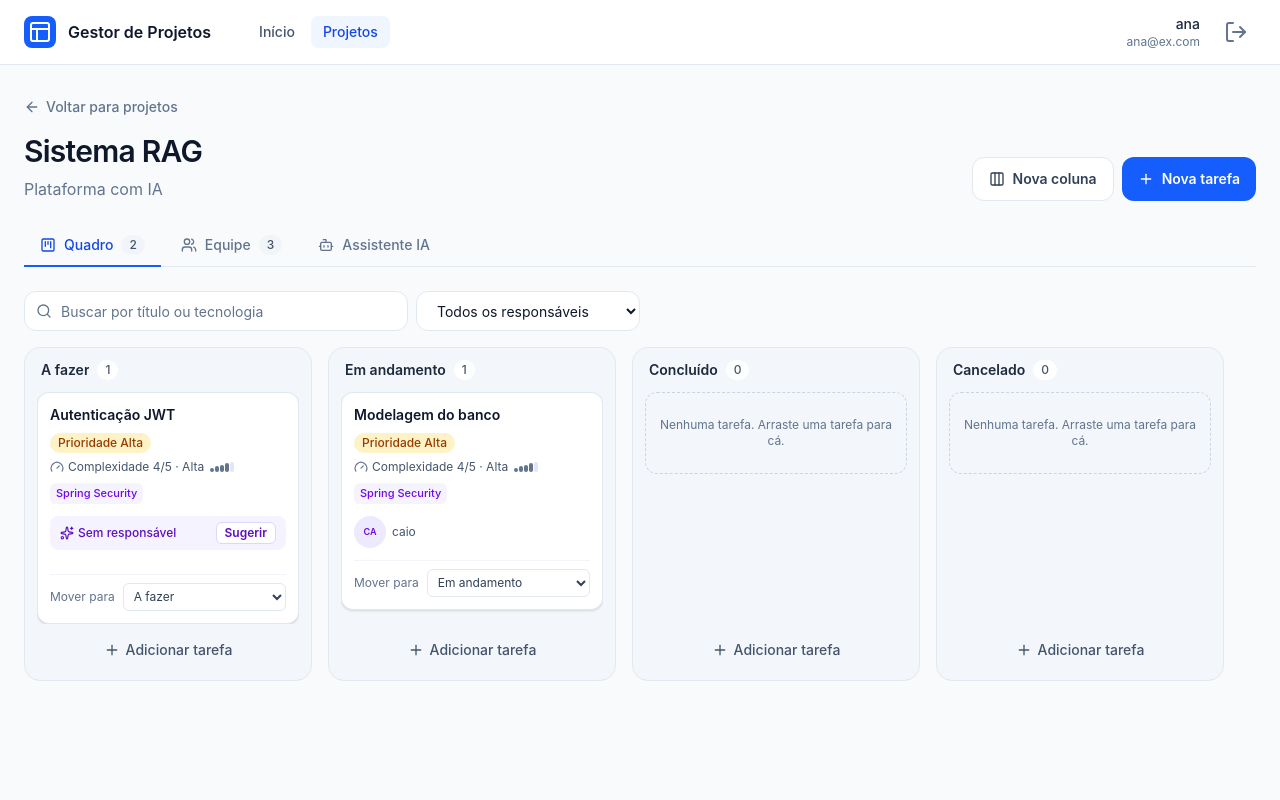
Test: Recomendação de responsáveis › exibe ranking com percentual, nome da equipe e justificativa; aceitar registra ACEITA e o servidor atribui
This screenshot has width=1280, height=800.
Click the button named "Sugerir responsável para \"Autenticação JWT\"". click: (246, 532)
box: [216,522,276,544]
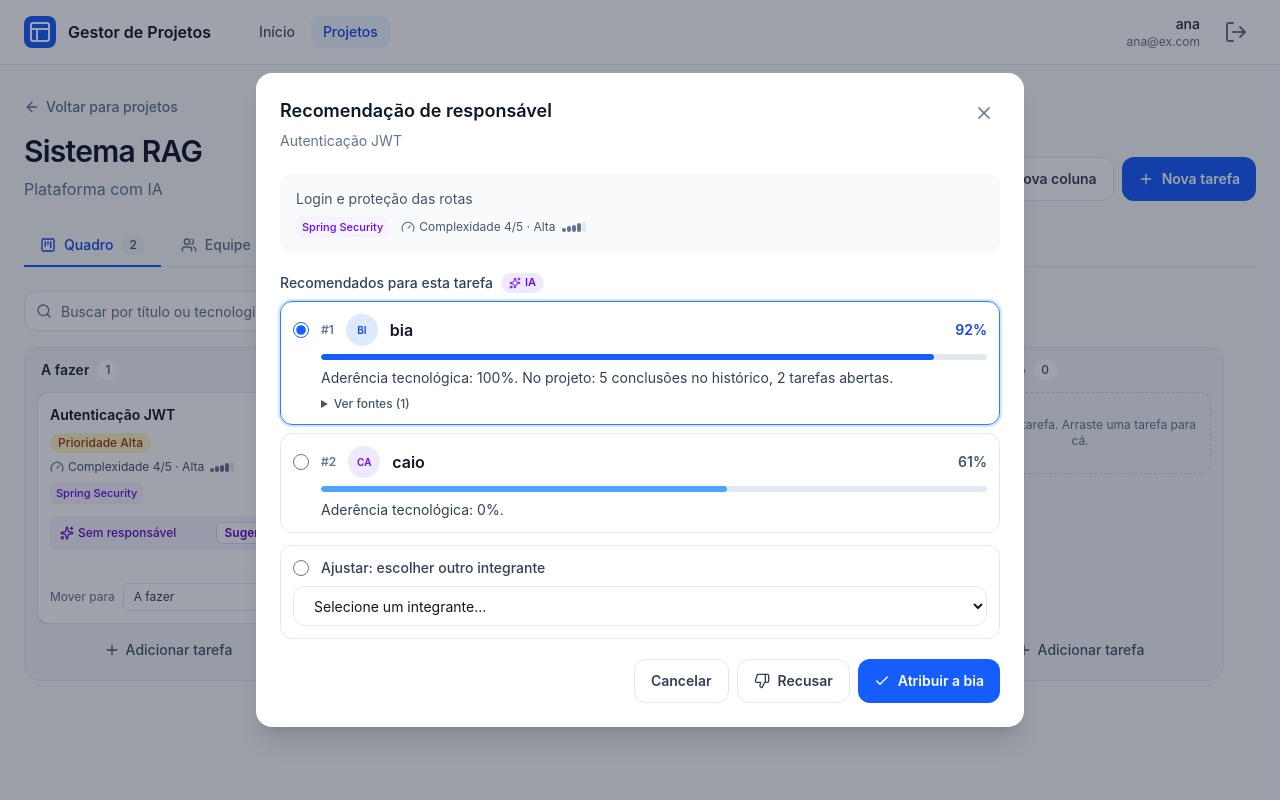
Expected: the text "92%" is shown, [955,320,987,340]
Expected: the text "bia" is shown, [390,320,413,340]
Expected: the text "5 conclusões no histórico" is shown, [321,369,893,386]
Click the button "Atribuir a bia". click: (929, 681)
box: [858,659,1000,703]
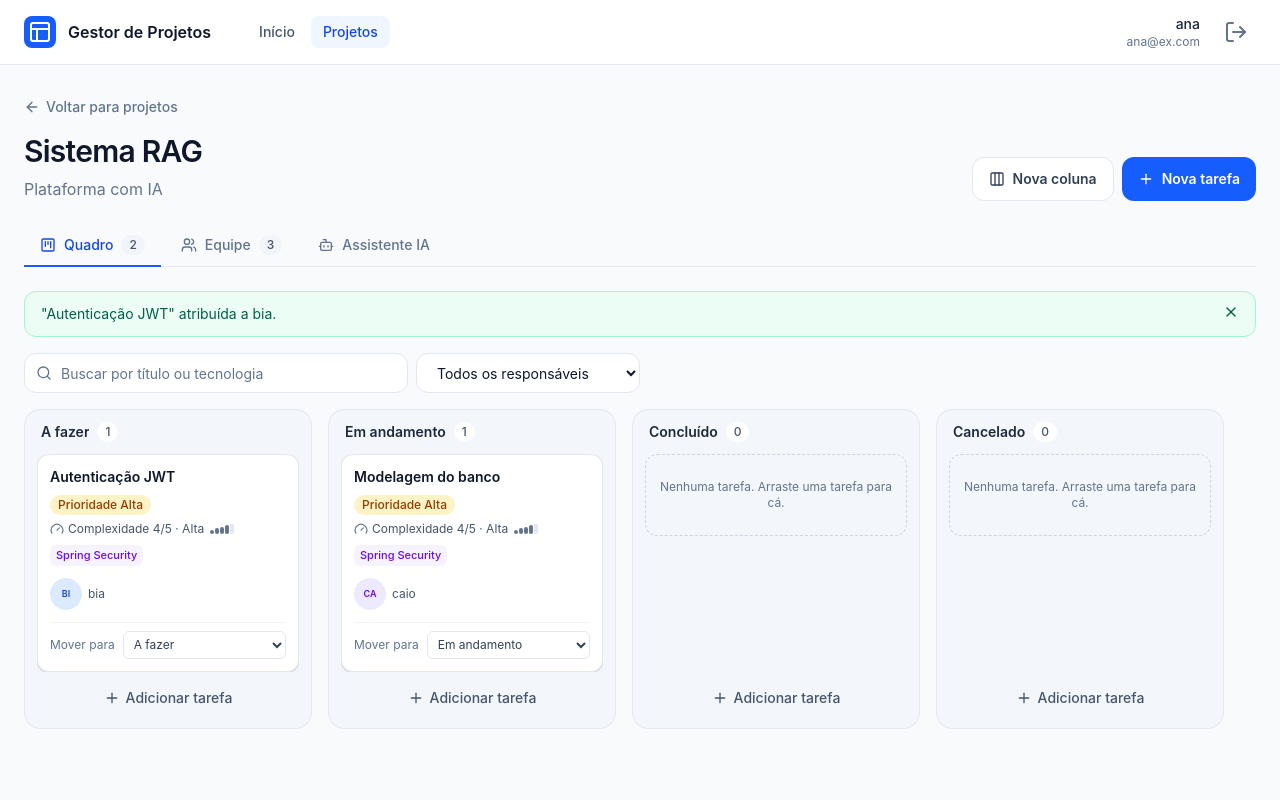
Expected: the dialog is gone
Expected: the message reads "\"Autenticação JWT\" atribuída a bia.", [41,305,276,322]
